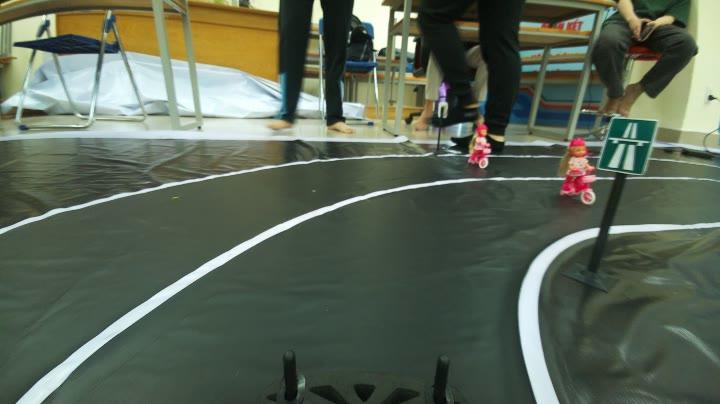highway_entry: (599, 110, 657, 181)
pedestrian: (553, 134, 601, 200)
